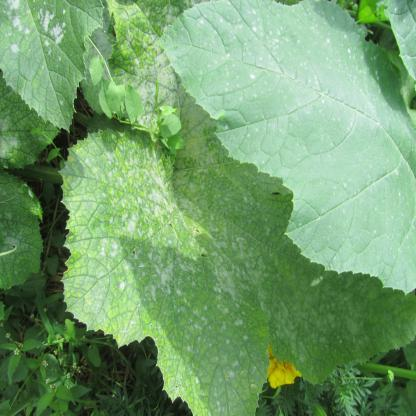Squash Powdery mildew leaf: (153, 0, 415, 296), (68, 2, 216, 156), (2, 1, 108, 134)
